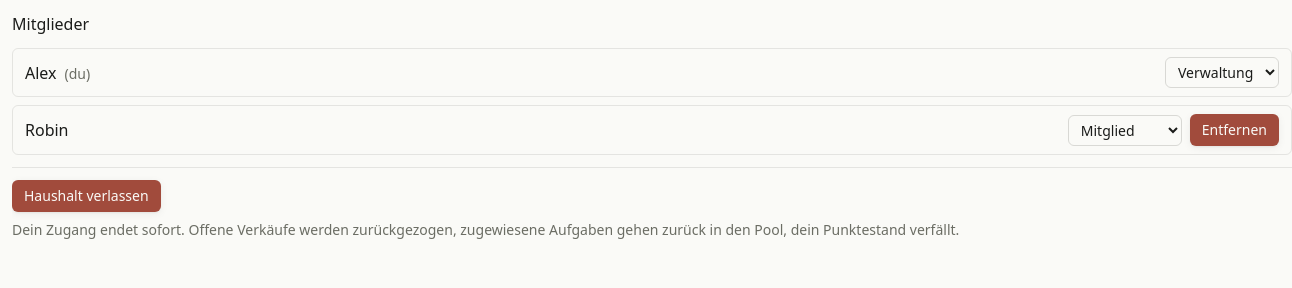
Test: a sole_member refusal shows its own sentence
The image size is (1292, 288).
Click the button "Haushalt verlassen".
click(86, 196)  # box top-left (12, 180), bottom-right (161, 212)
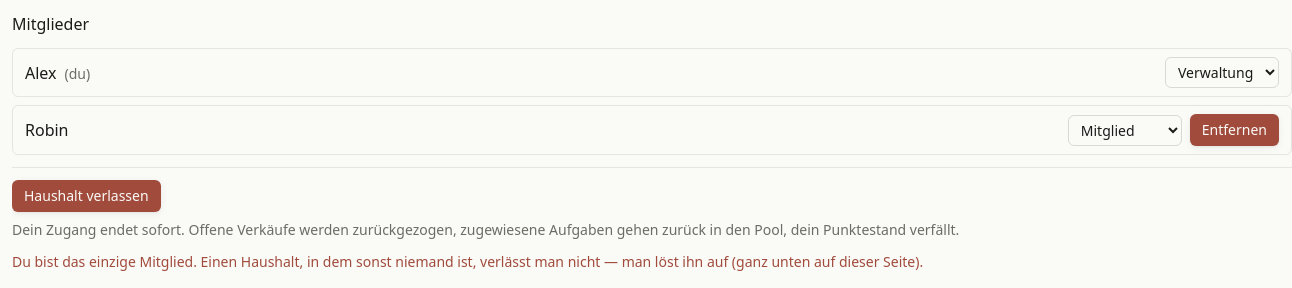
Check: the message shows "Du bist das einzige Mitglied. Einen Haushalt, in dem sonst niemand ist, verlässt man nicht — man löst ihn auf (ganz unten auf dieser Seite).", box top-left (12, 252), bottom-right (923, 271)
